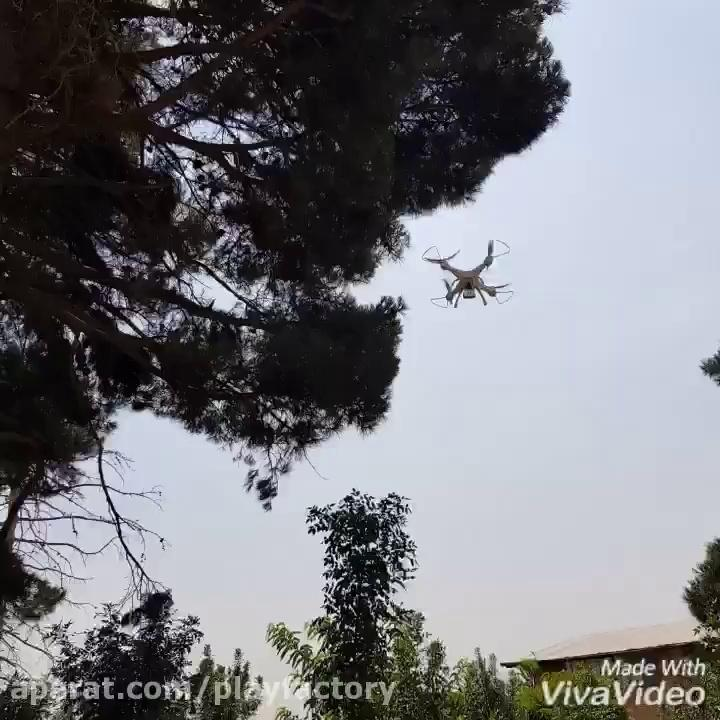drone: (421, 237, 516, 312)
